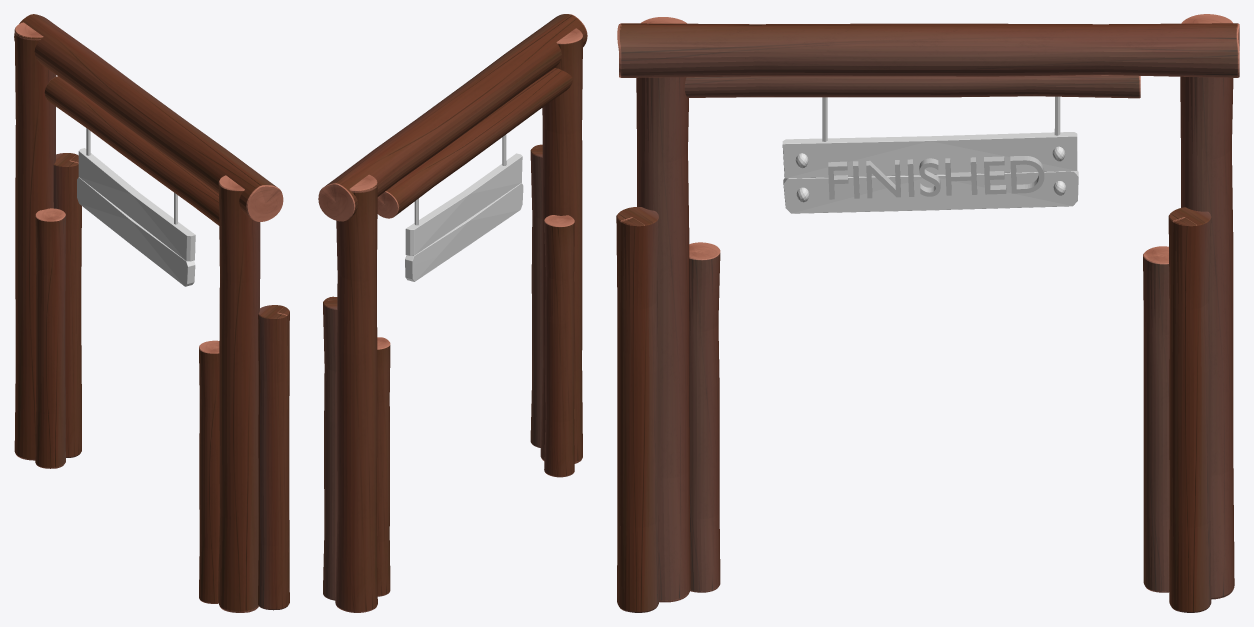
Rendered from finish.fbx.
The picture shows the model from 3 angles, left to right: view 1: azimuth 30°, elevation 25°; view 2: azimuth 150°, elevation 25°; view 3: azimuth 270°, elevation 25°; orthographic projection. The views are drawn at different scales.
Parts seen in each view (by area): view 1: Object.348, Object.353, Object.349, Object.360, Object.351, Object.347, Object.359, Object.354, Object.352; view 2: Object.349, Object.353, Object.348, Object.352, Object.347, Object.354, Object.359, Object.351, Object.360; view 3: Object.353, Object.348, Object.347, Object.359, Object.360, Object.349, Object.352, Object.354, Object.351, Text.002.
Part boxes in pixels (<box>): Object.348: <box>218,175,260,612</box>; Object.353: <box>14,14,283,221</box>; Object.349: <box>14,22,56,460</box>; Object.360: <box>258,305,289,610</box>; Object.351: <box>35,208,65,468</box>; Object.347: <box>77,148,195,286</box>; Object.359: <box>53,153,81,457</box>; Object.354: <box>44,76,219,225</box>; Object.352: <box>199,340,219,603</box>; Object.349: <box>335,174,377,612</box>; Object.353: <box>318,14,587,221</box>; Object.348: <box>540,28,582,463</box>; Object.352: <box>544,215,574,477</box>; Object.347: <box>405,153,523,281</box>; Object.354: <box>377,68,572,218</box>; Object.359: <box>323,296,337,600</box>; Object.351: <box>377,337,390,596</box>; Object.360: <box>530,144,542,447</box>; Object.353: <box>617,23,1239,77</box>; Object.348: <box>636,17,690,602</box>; Object.347: <box>782,132,1078,213</box>; Object.359: <box>1168,207,1211,612</box>; Object.360: <box>616,207,658,612</box>; Object.349: <box>1180,14,1234,599</box>; Object.352: <box>689,242,720,592</box>; Object.354: <box>684,75,1140,98</box>; Object.351: <box>1143,246,1169,592</box>; Text.002: <box>828,156,1044,199</box>.
Size of the model in its own units: 96.5 by 624 by 615.
